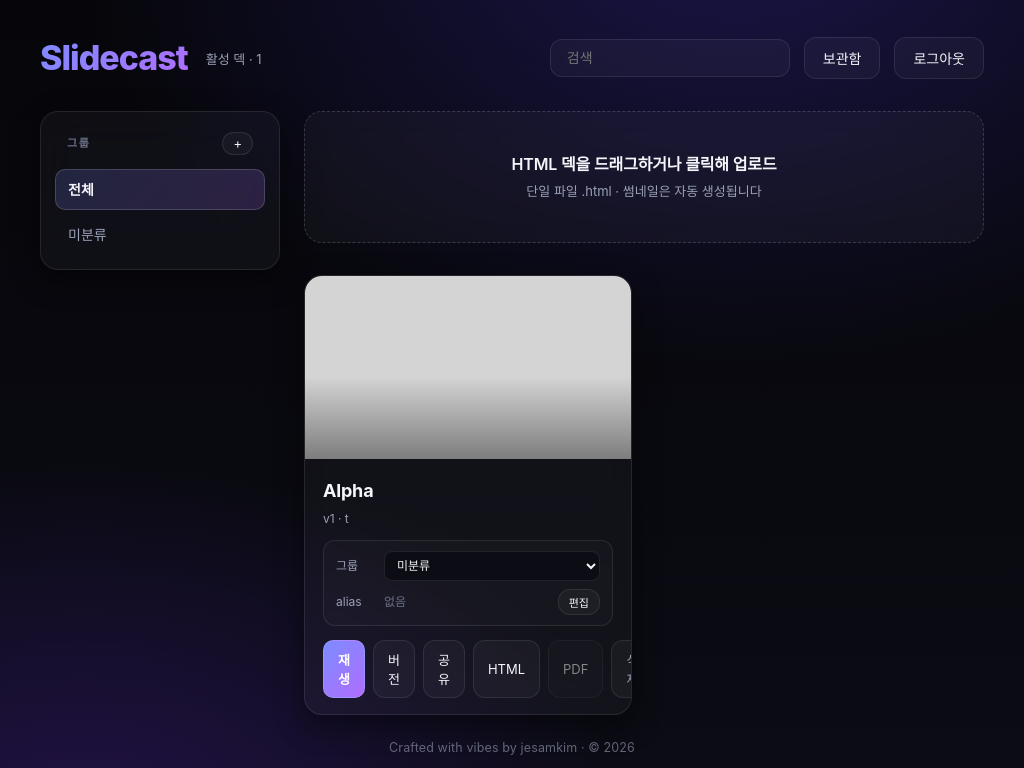
Scenario: Gallery › matches a query against tags, not just the title
The width and height of the screenshot is (1024, 768).
Check: the text "Alpha" is shown, box [323,480,373,501]
"quarterly" matches the tag, not the title "Alpha".
Type "quarterly" into the field with placeholder "검색" at (670, 58), box [550,38,790,76]
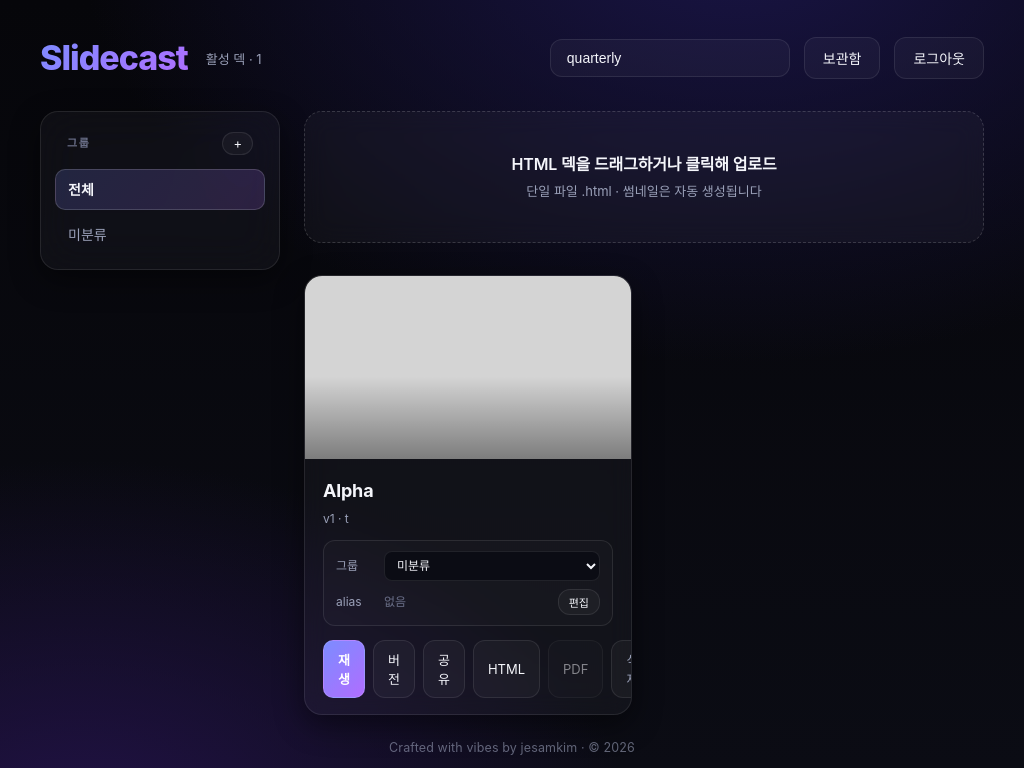
Check: the text "Alpha" is shown, box [323,480,373,501]
A query matching neither title nor tags hides the card.
Replace the text in the field with placeholder "검색" with "zzz-nomatch" at (670, 58), box [550,38,790,76]
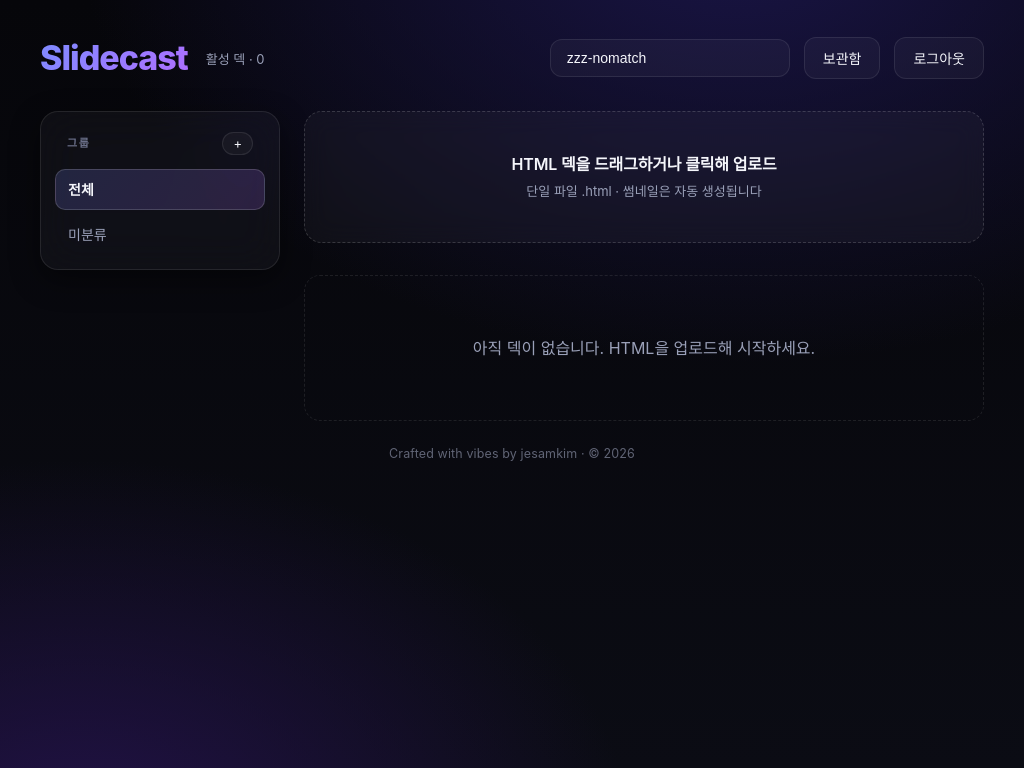
Check: the text "Alpha" is gone
